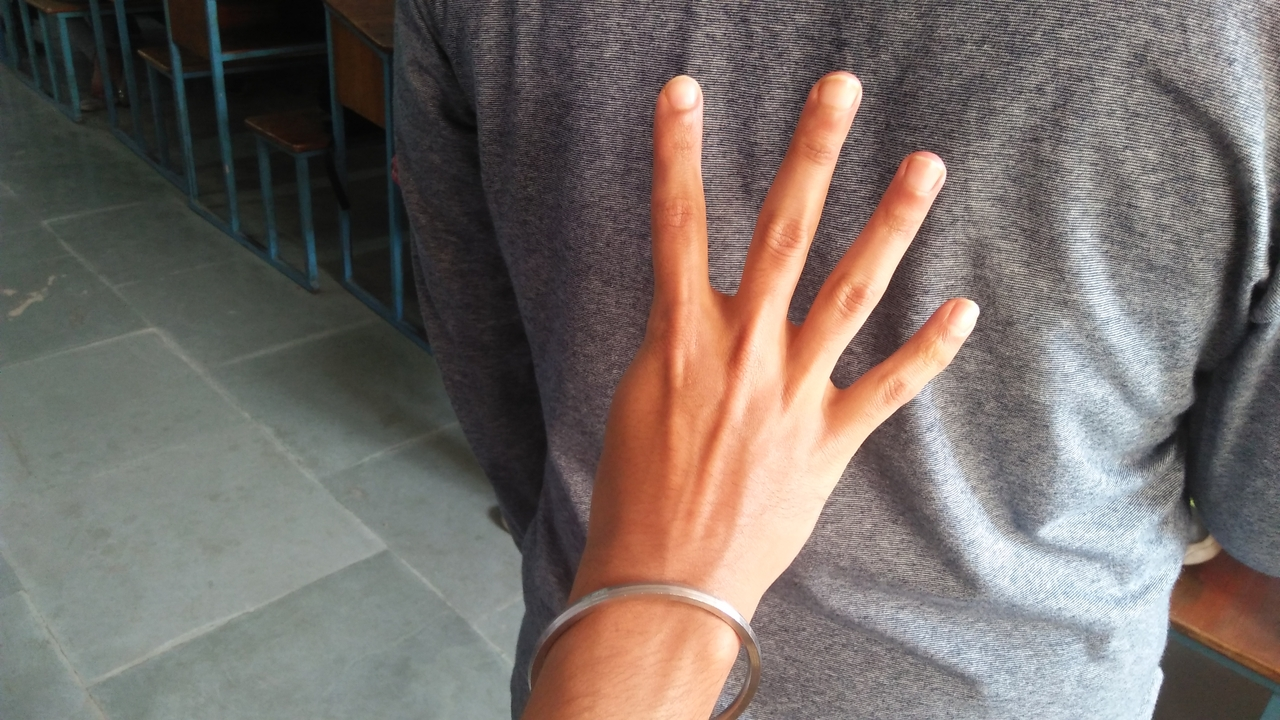fingertip: (890, 142, 960, 200), (924, 288, 996, 340), (808, 66, 868, 122), (652, 70, 708, 124)
